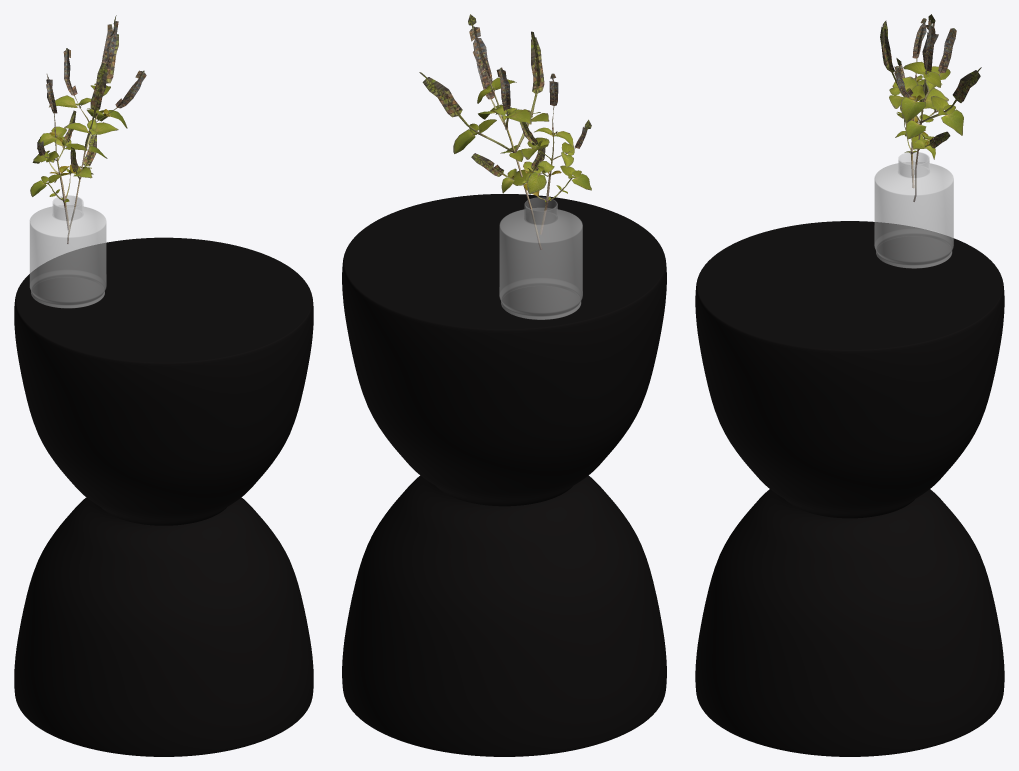
3 renders of one model, left to right at view 1: azimuth 30°, elevation 25°; view 2: azimuth 150°, elevation 25°; view 3: azimuth 270°, elevation 25°, orthographic. The views are drawn at different scales.
Visible parts, largest first — view 1: столик балкон002, Clay Vase with Shrubs.001, shrub one.001, shrub two.001; view 2: столик балкон002, Clay Vase with Shrubs.001, shrub one.001, shrub two.001; view 3: столик балкон002, Clay Vase with Shrubs.001, shrub one.001, shrub two.001.
Part boxes in pixels (box(x1,y1,x2,y2)): столик балкон002: box(14, 237, 313, 756); Clay Vase with Shrubs.001: box(30, 195, 106, 308); shrub one.001: box(49, 15, 146, 243); shrub two.001: box(30, 74, 93, 230); столик балкон002: box(342, 194, 666, 756); Clay Vase with Shrubs.001: box(499, 197, 582, 319); shrub one.001: box(419, 14, 549, 249); shrub two.001: box(513, 73, 591, 234); столик балкон002: box(695, 221, 1004, 756); Clay Vase with Shrubs.001: box(874, 152, 953, 268); shrub one.001: box(880, 14, 981, 201); shrub two.001: box(896, 18, 948, 188).
Size of the model in its own units: 0.2997 by 0.7212 by 0.2997.
Materials: 3 (1 with a texture image).
